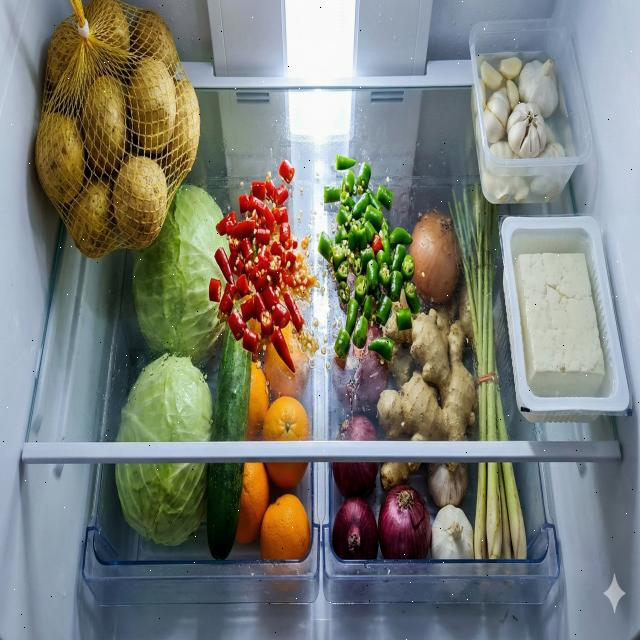cabbage: (114, 353, 214, 548), (132, 184, 231, 366)
chili: (318, 153, 422, 360), (209, 159, 303, 373)
cucumber: (207, 322, 252, 560)
garlic: (472, 56, 566, 202), (428, 461, 474, 559)
ginger: (376, 279, 479, 494)
lemongrass: (449, 182, 527, 562)
onion: (332, 462, 432, 560), (410, 212, 460, 304)
orange: (246, 321, 310, 441), (235, 462, 311, 560)
potato: (35, 0, 201, 257)
tofu: (514, 254, 606, 397)
